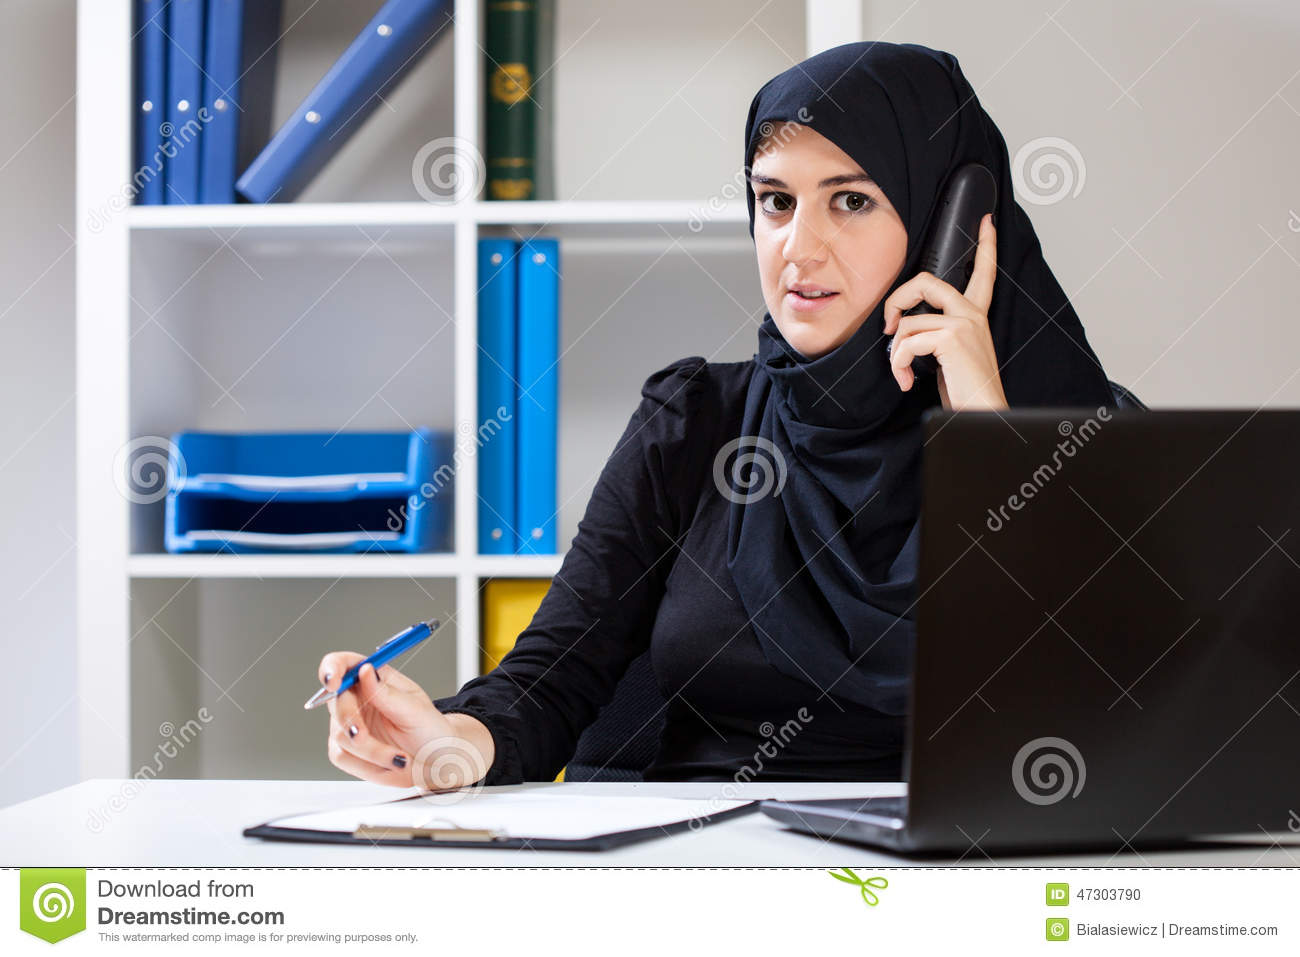talk: (753, 161, 1009, 407)
